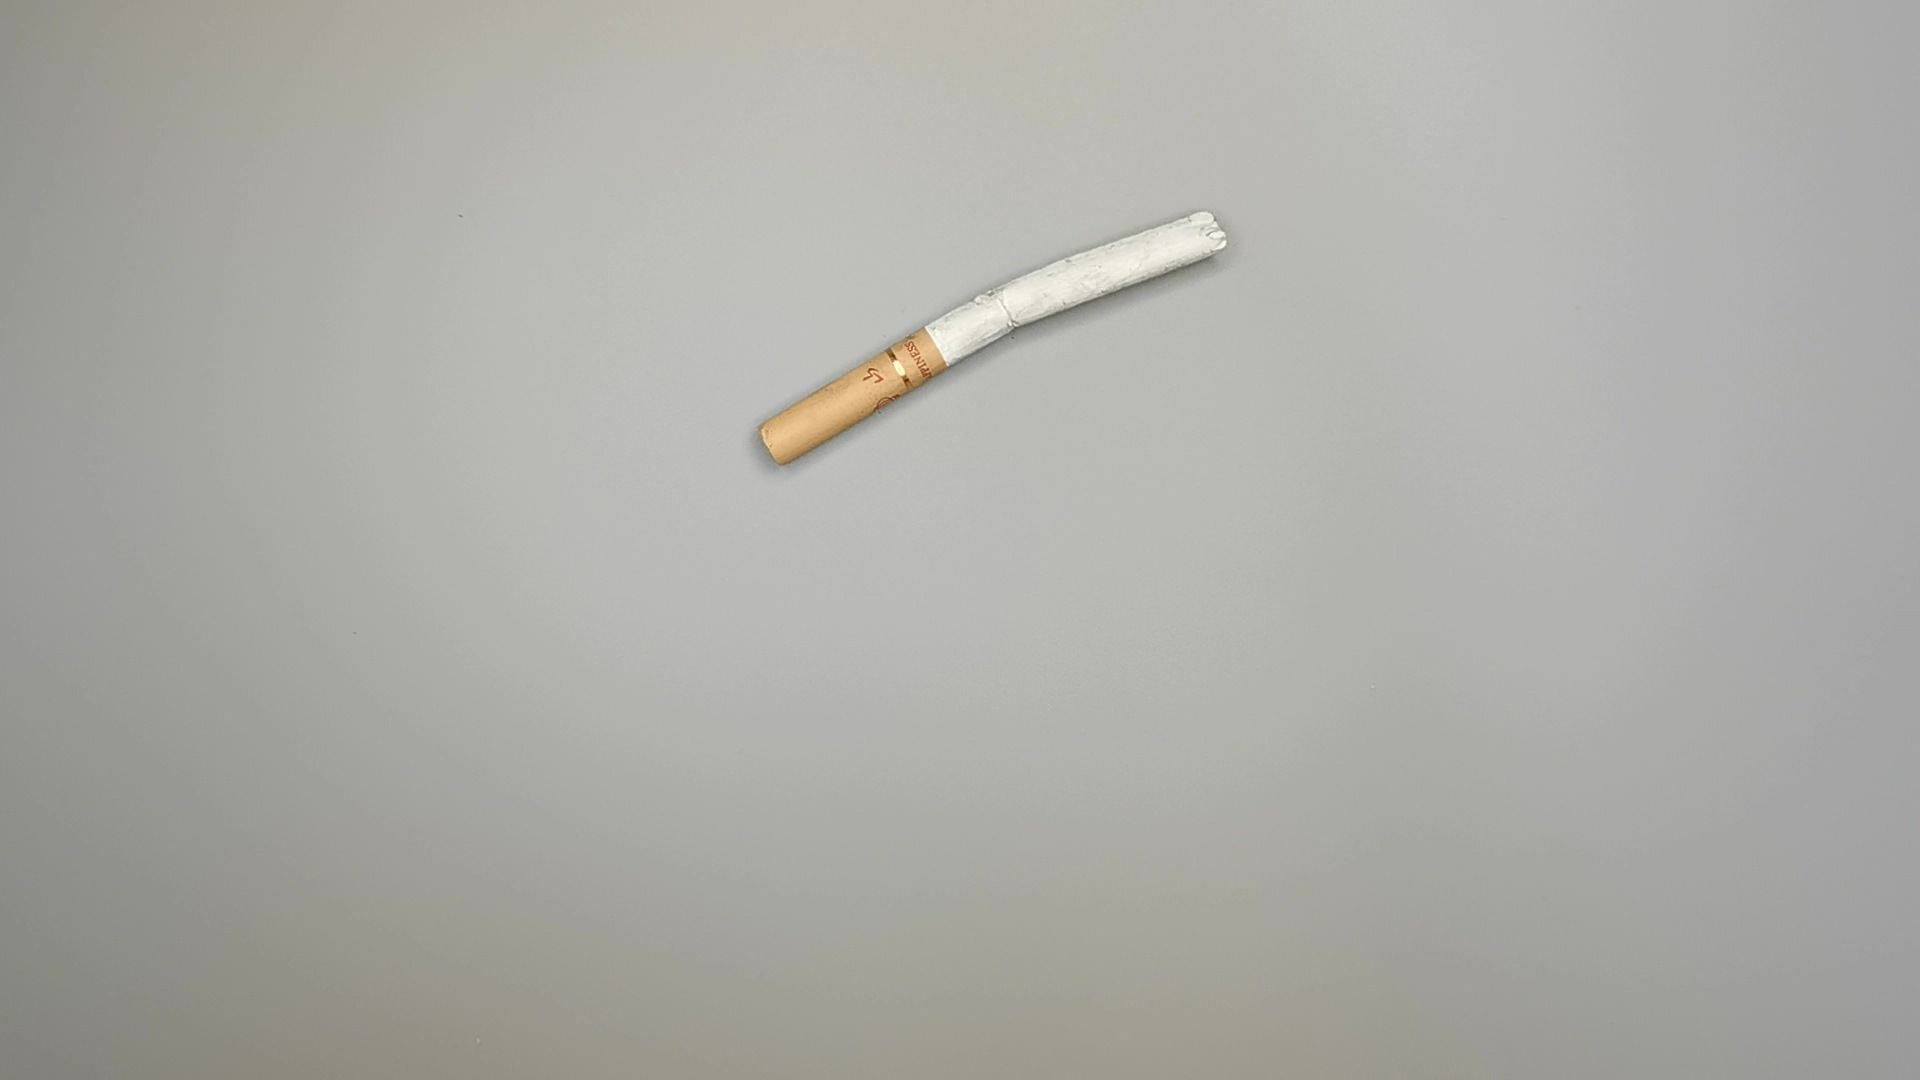cigarette: (740, 204, 1230, 472)
